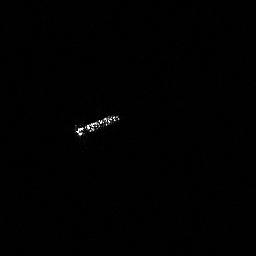ship: (73, 111, 122, 143)
